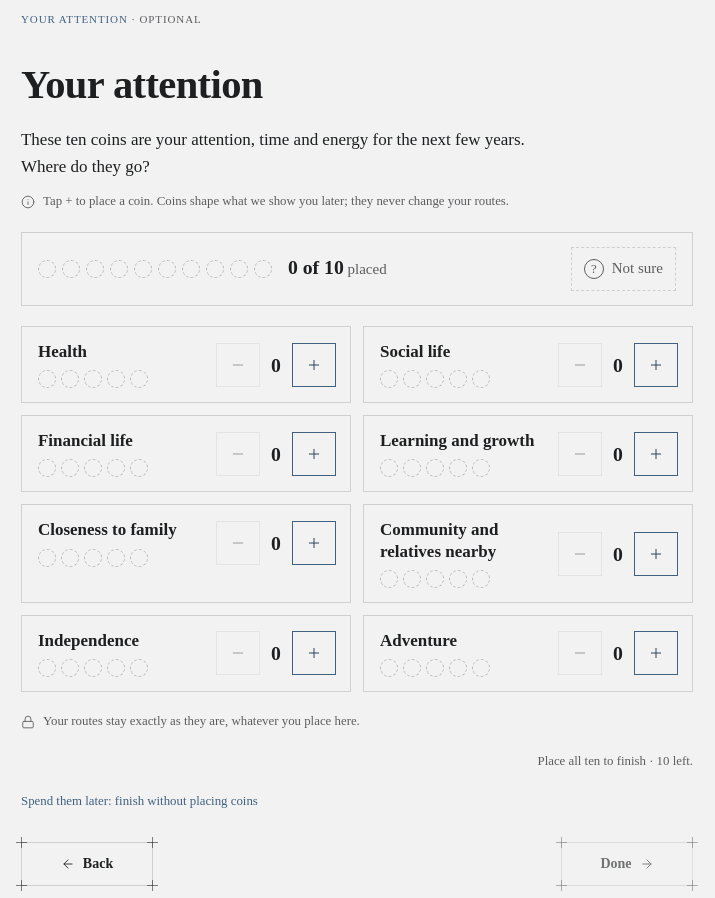
Test: spreads the coins evenly on "Not sure", assumed until she moves one
Click the button "? Not sure": (623, 269) left=571, top=247, right=676, bottom=291
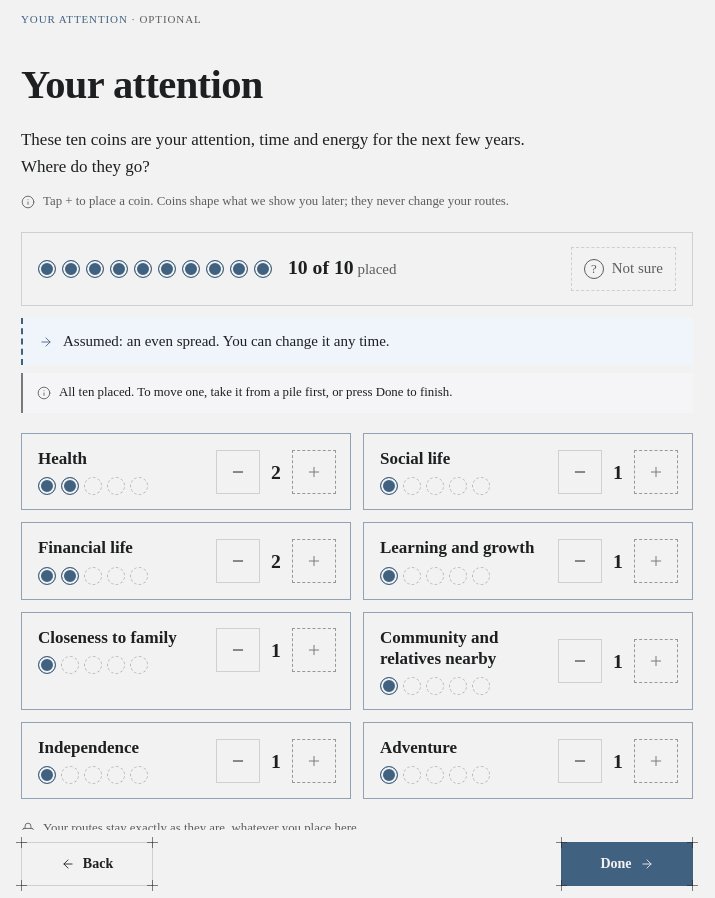
Check: the text "Assumed: an even spread. You can change it any time." is shown, box left=63, top=330, right=390, bottom=353
Click the button named "Take a coin from Adventure": (580, 761) left=558, top=739, right=602, bottom=783
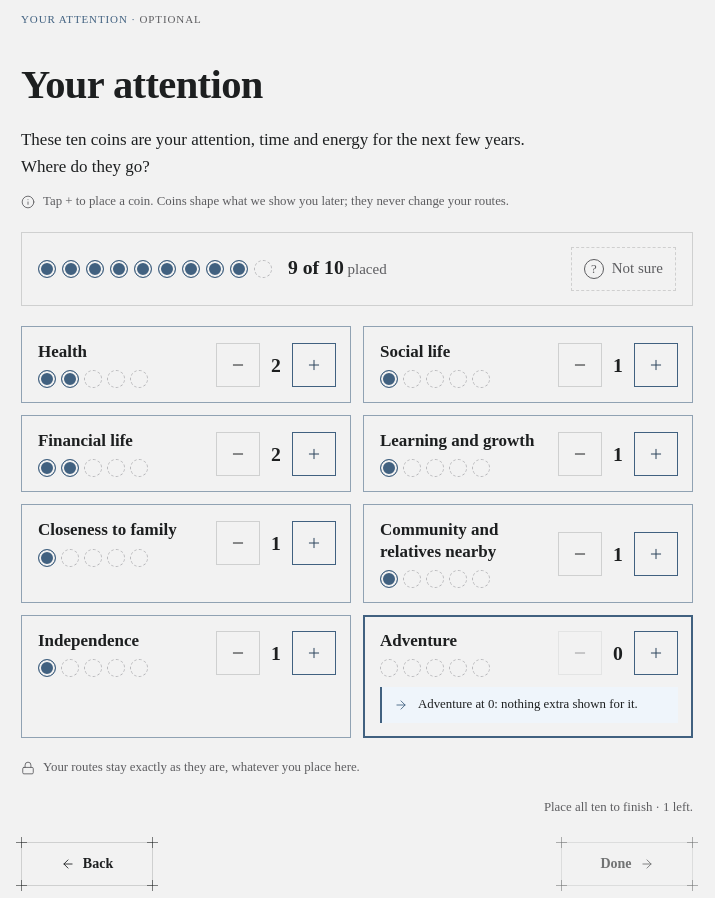
Check: the text "Assumed: an even spread. You can change it any time." is gone
